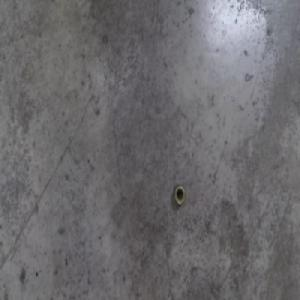Nut: (174, 184, 186, 208)
